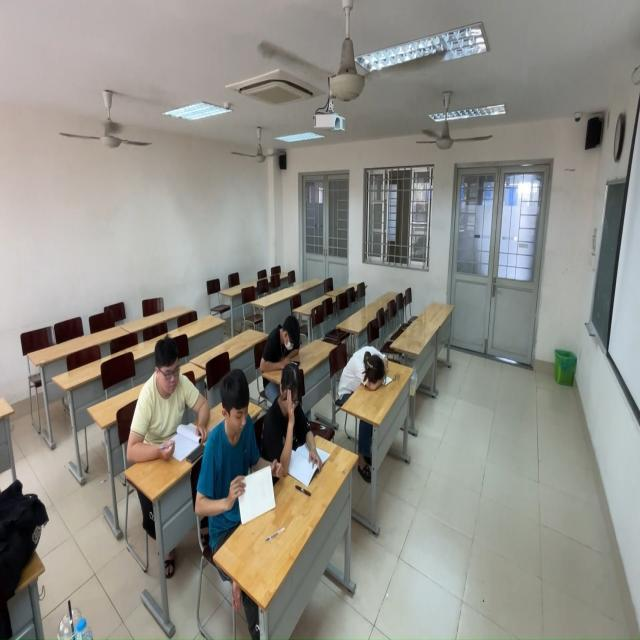sleep: (337, 346, 391, 393)
study: (195, 368, 282, 523), (125, 338, 208, 461), (260, 365, 321, 480), (257, 316, 304, 371)
